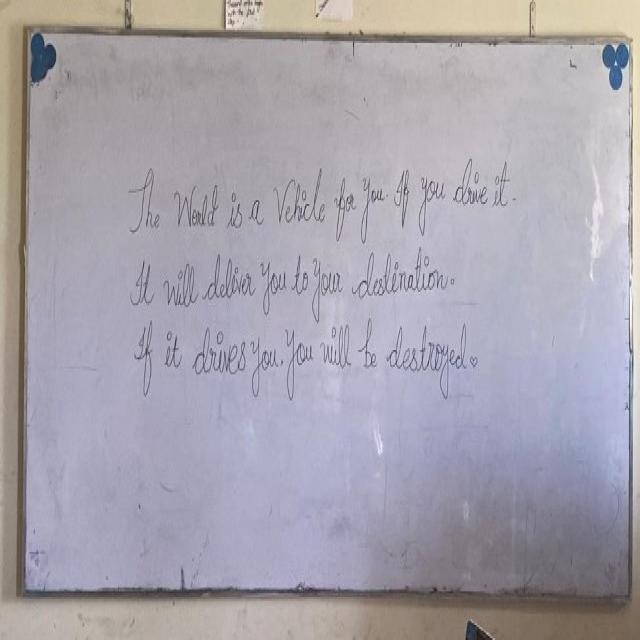White-board: (26, 38, 632, 601)
